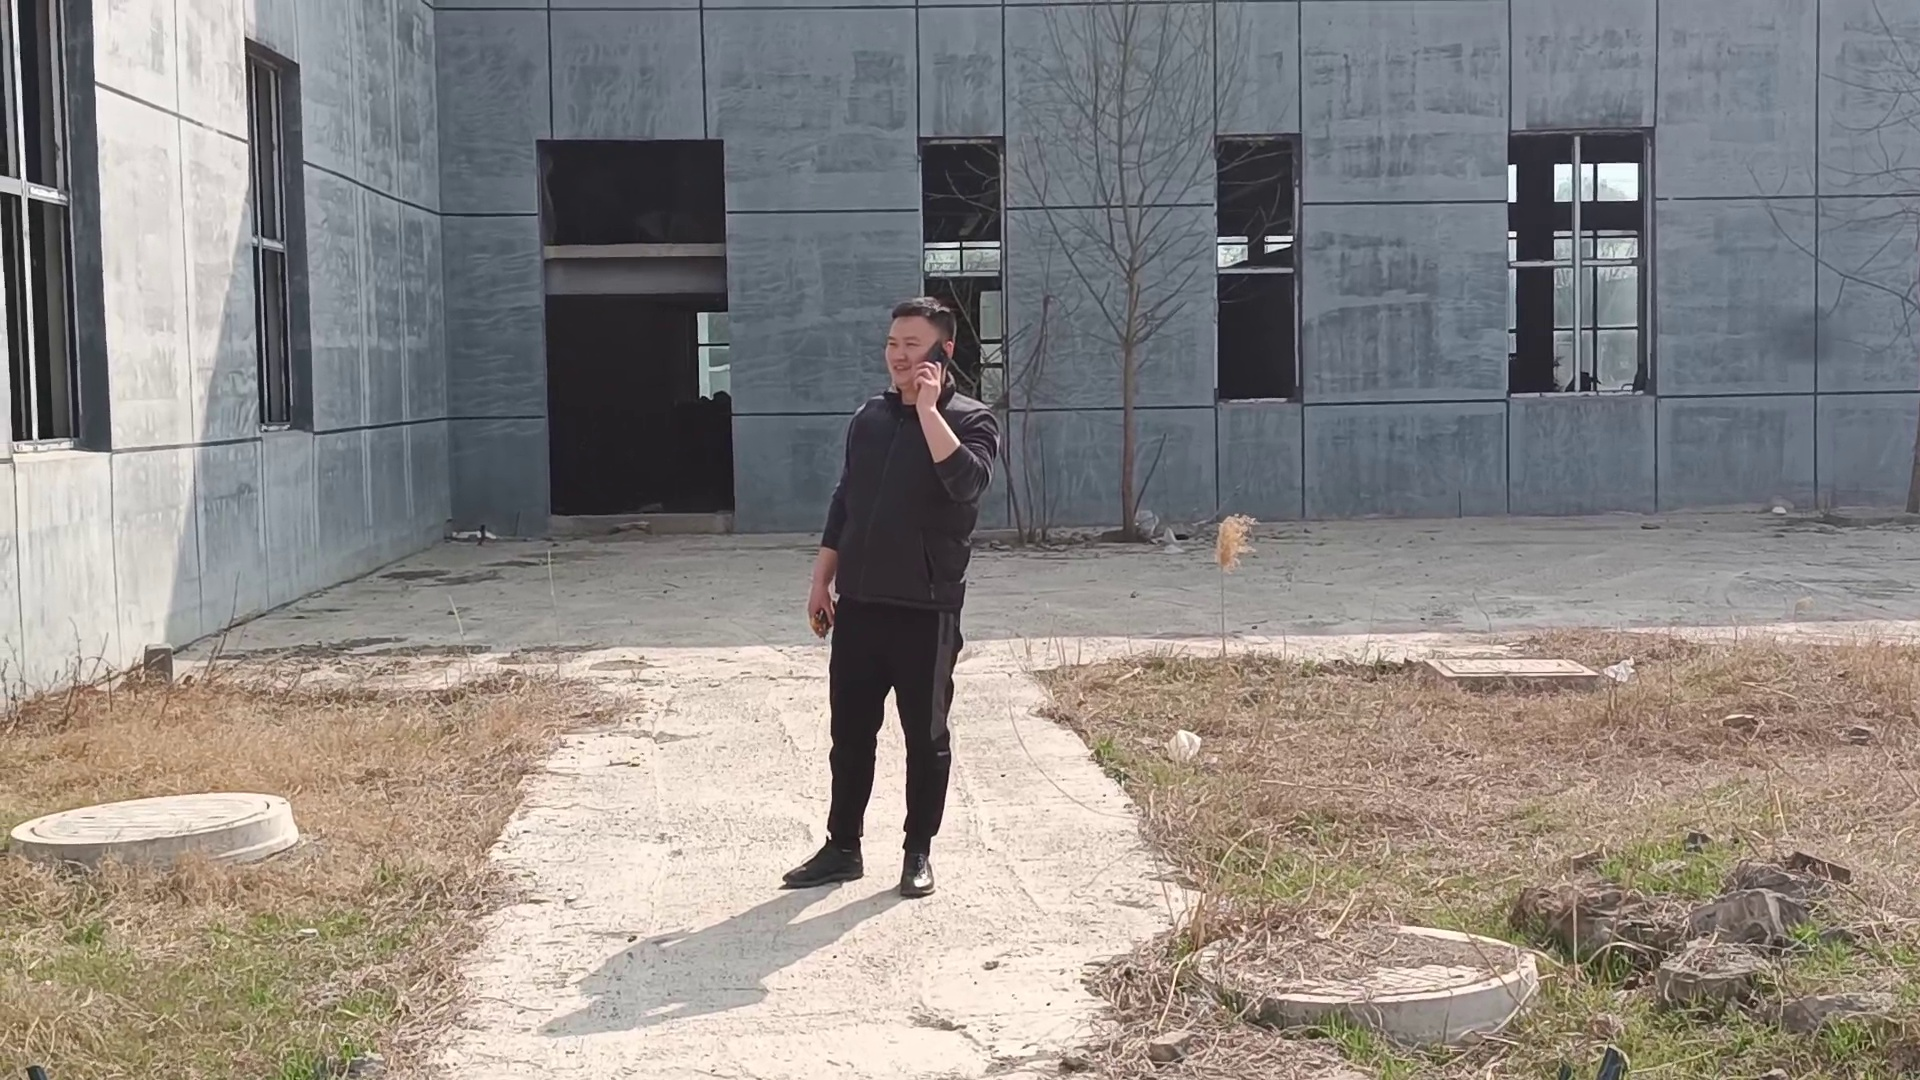phone: (880, 287, 963, 413)
